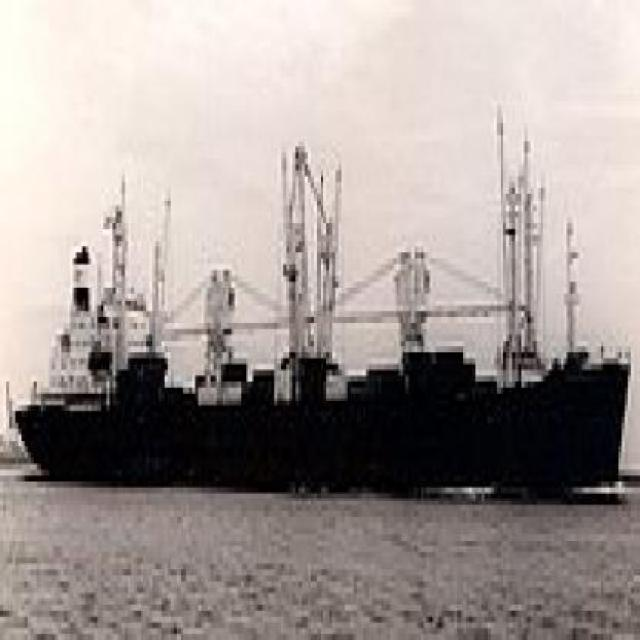container: (13, 90, 638, 530)
